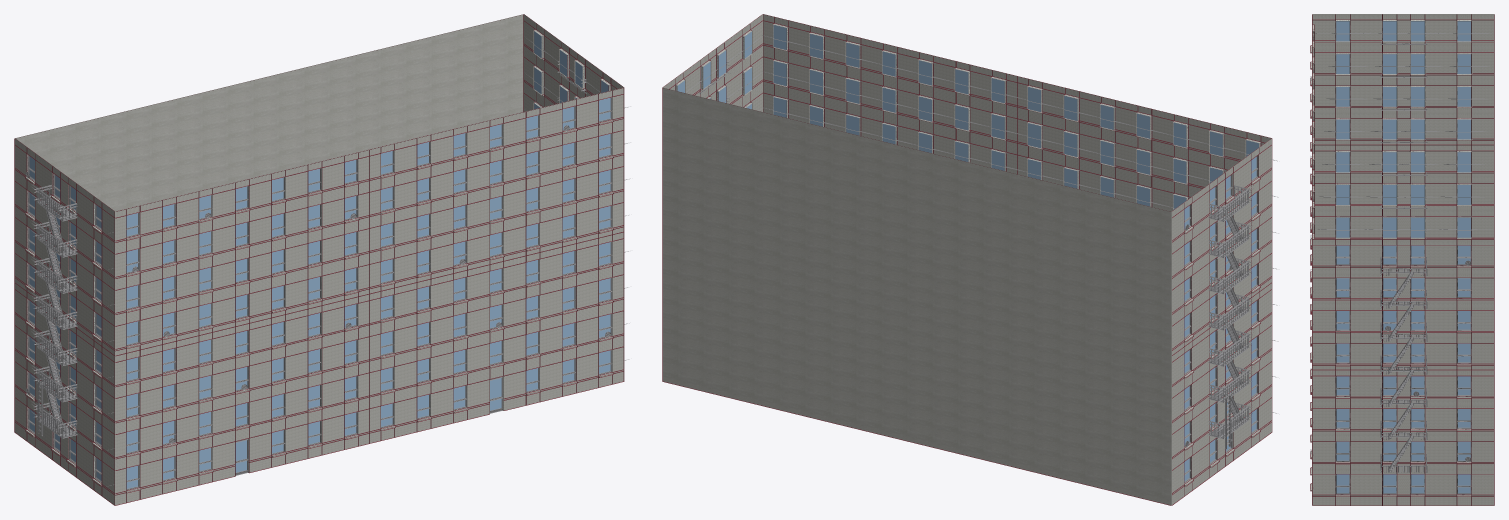
The model's file is cityscene2_35.gltf.
3 views of the same model, side by side, from view 1: azimuth 30°, elevation 25°; view 2: azimuth 150°, elevation 25°; view 3: azimuth 270°, elevation 25° (orthographic). The views are drawn at different scales.
Visible parts, largest first — view 1: cityscene2_35; view 2: cityscene2_35; view 3: cityscene2_35.
Boxes of the visible parts, bbox=[...] form: cityscene2_35: bbox=[14, 14, 630, 505]; cityscene2_35: bbox=[662, 14, 1278, 505]; cityscene2_35: bbox=[1310, 14, 1494, 505].
Size of the model in its own units: 26.11 by 13.4 by 8.39.
4 materials, 1 textured.
